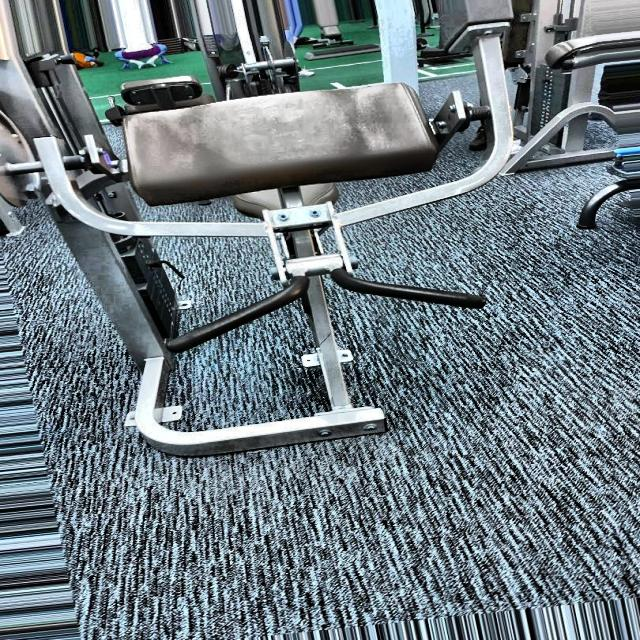bicep_curl_machine: (8, 0, 492, 382)
